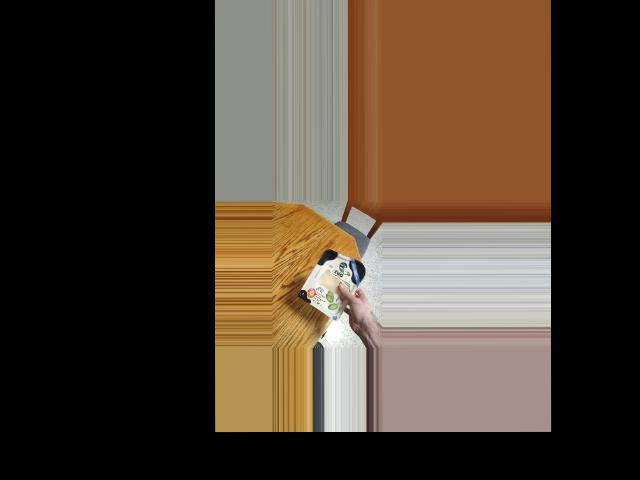cheese: (304, 244, 365, 311)
